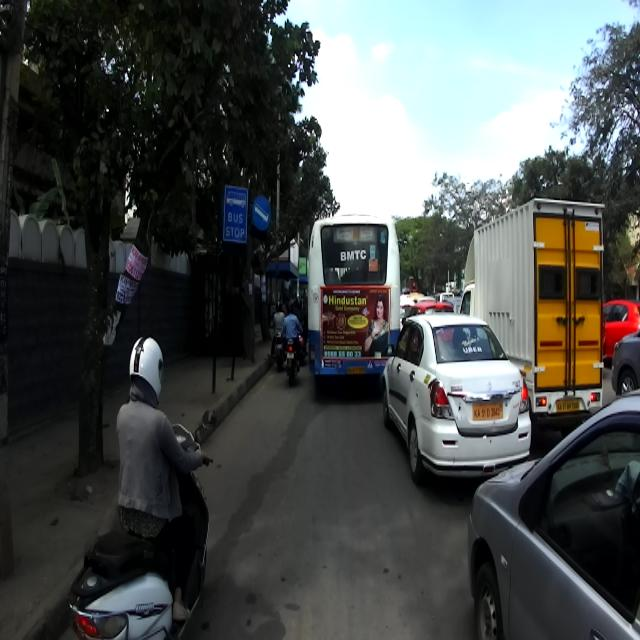bus ahead at: (307, 221, 405, 402)
car ahead at: (381, 310, 535, 472)
motorcycle ahead at: (72, 522, 216, 640)
sign board ahead at: (218, 182, 250, 253), (251, 189, 275, 243)
